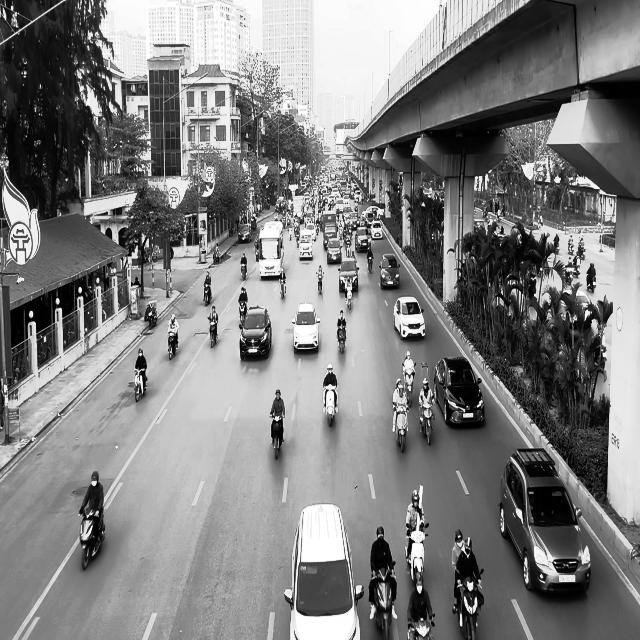car: (498, 447, 591, 594), (284, 502, 364, 640), (433, 356, 485, 426), (240, 304, 272, 361), (291, 302, 320, 352), (393, 296, 425, 340), (379, 253, 400, 289), (338, 258, 359, 293), (238, 223, 251, 243)
motorbike: (455, 568, 484, 640), (370, 560, 396, 638), (404, 522, 429, 584), (392, 402, 409, 453), (418, 399, 435, 445), (407, 614, 435, 639), (322, 384, 338, 426), (270, 412, 284, 459), (402, 362, 416, 406), (134, 367, 148, 402), (336, 321, 346, 353), (168, 330, 178, 360), (146, 301, 157, 328), (208, 317, 217, 348), (238, 301, 247, 328), (586, 272, 596, 292), (366, 250, 374, 273), (203, 282, 211, 305), (316, 272, 324, 294), (279, 276, 286, 298), (345, 287, 352, 309), (240, 261, 247, 281), (213, 251, 220, 264)
